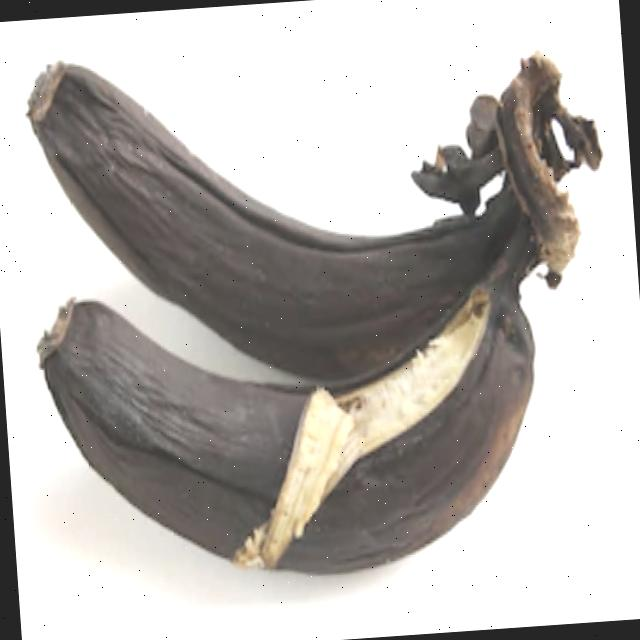rotten banana: (6, 31, 633, 624)
